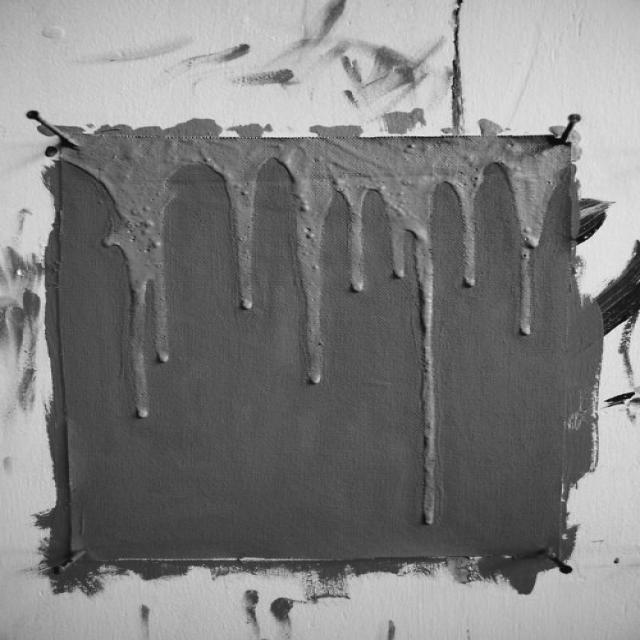paint drips: (200, 153, 379, 390), (74, 156, 188, 428), (450, 151, 576, 341), (387, 156, 448, 533)
